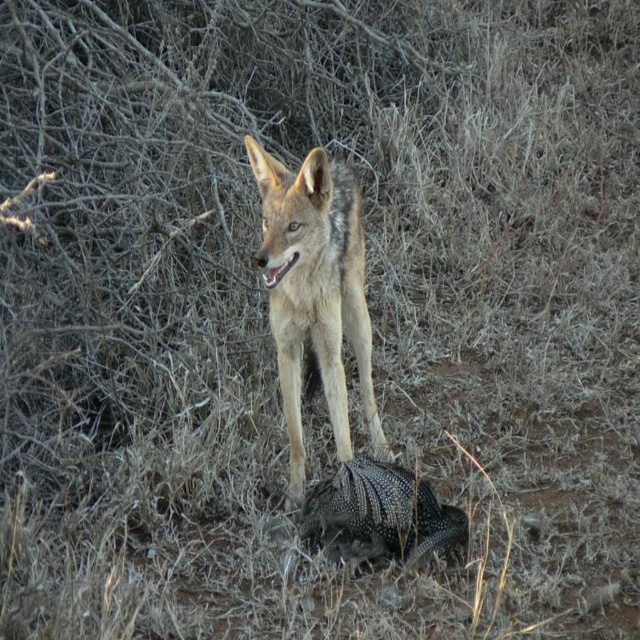Fox: (244, 134, 396, 514)
